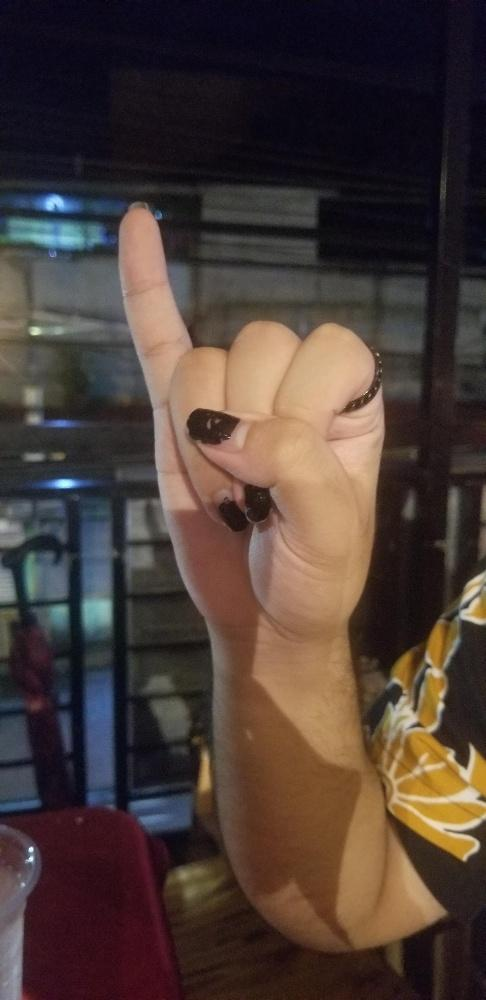i: (113, 200, 384, 625)
